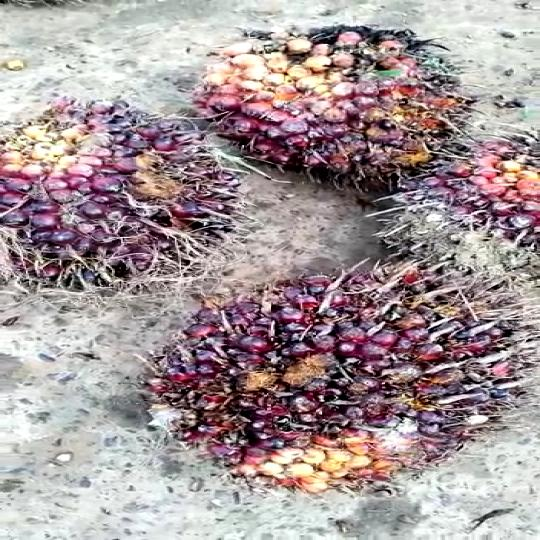masak: (153, 257, 540, 493), (0, 90, 278, 300), (192, 26, 530, 198)
